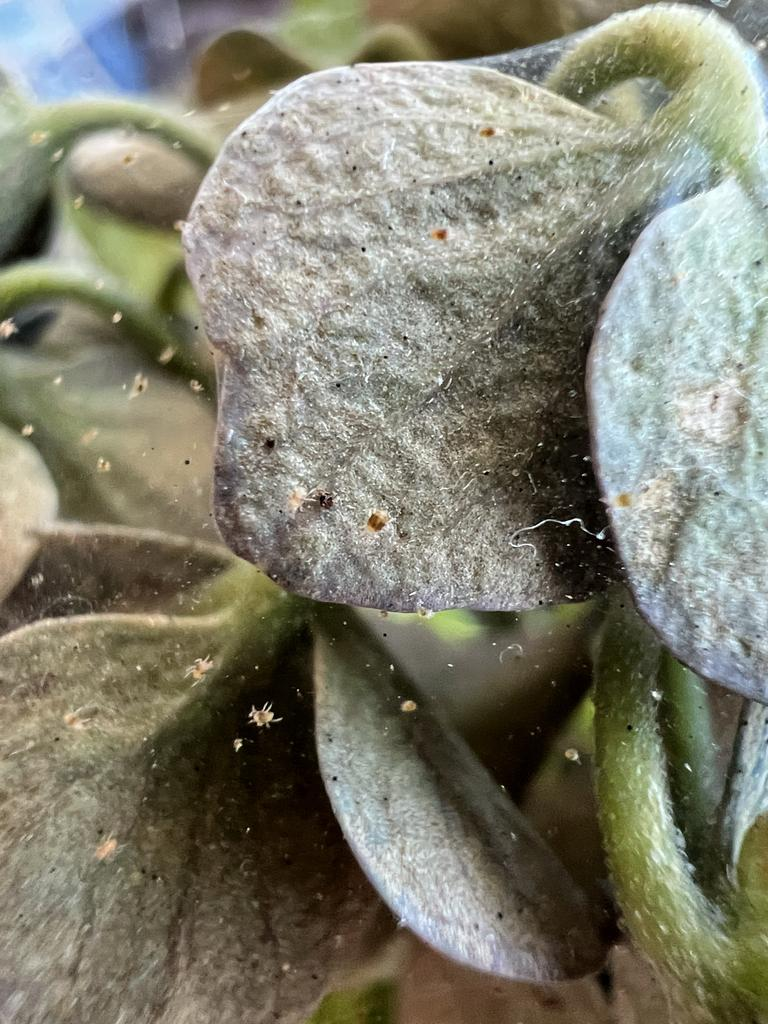tiny_pests: (172, 637, 226, 700), (238, 692, 289, 738), (468, 104, 505, 154), (358, 497, 393, 545), (422, 211, 457, 253)
